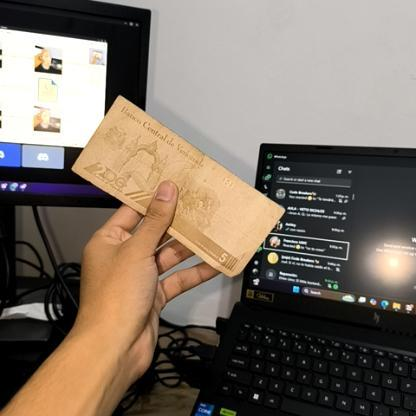five-back-vef: (72, 95, 286, 277)
